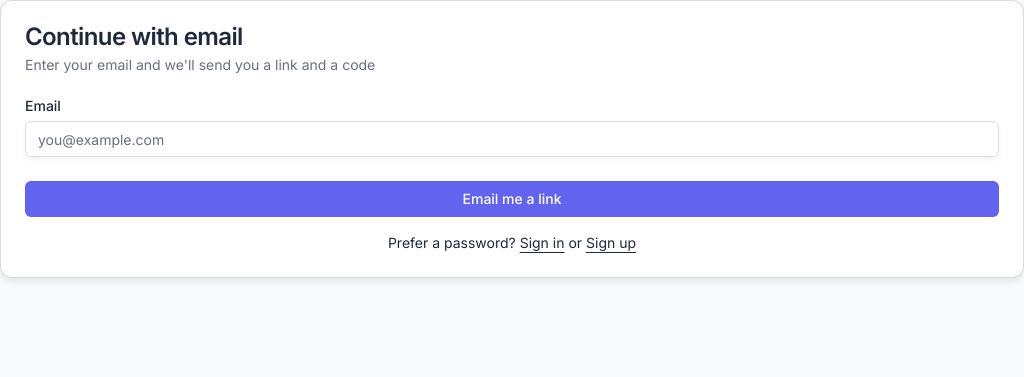
Test case: SignInLinkForm › should show confirmation copy naming the submitted address
The image size is (1024, 377).
Type "test@example.com" into the field labelled "Email" at x=512, y=139, box [25,121,999,157]
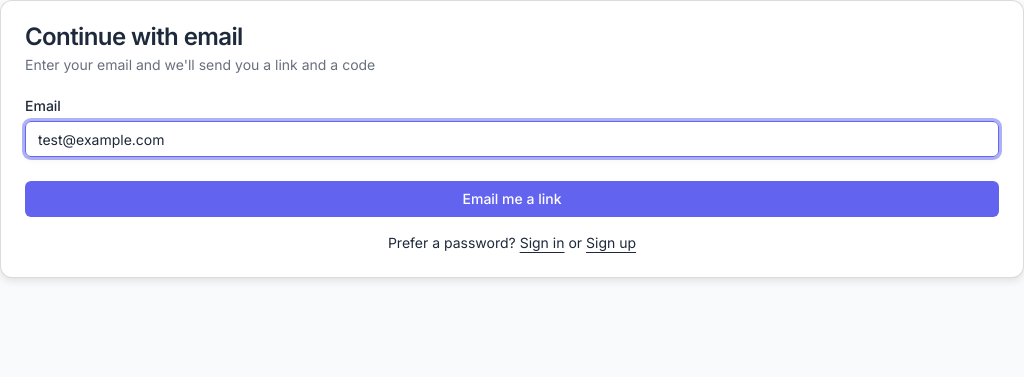
Click the button "Email me a link" at x=512, y=199, box [25,181,999,217]
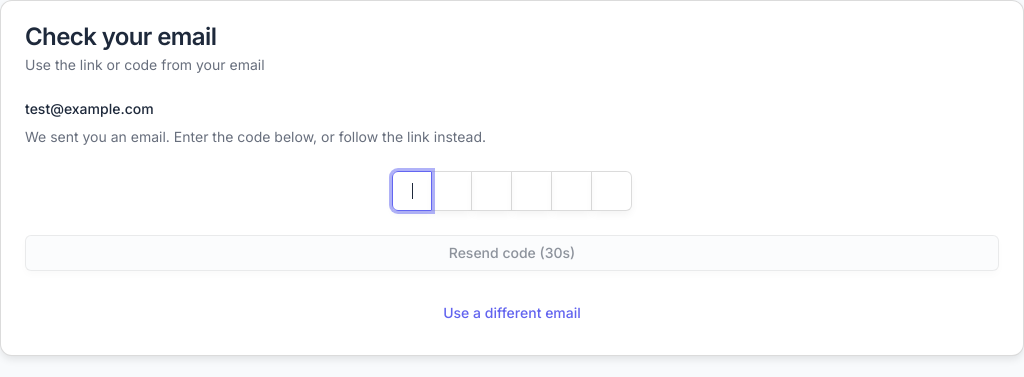
expect the heading "Check your email" is shown: met, box [25,22,216,51]
expect the text "test@example.com" is shown: met, box [25,100,154,117]
expect the text "We sent you an email. Enter the code below, or follow the link instead" is shown: met, box [25,128,486,145]
